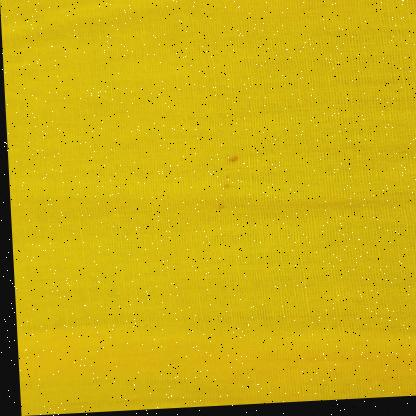spot: (213, 176, 233, 194), (222, 154, 240, 173), (205, 204, 231, 215)
